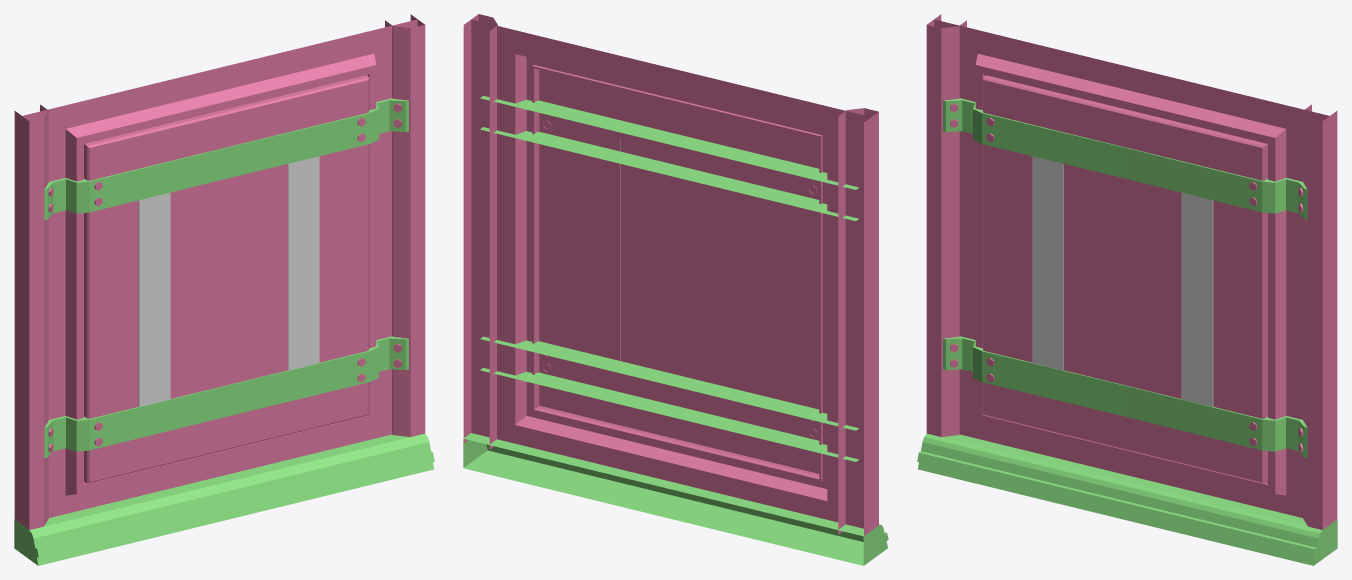
File: Floor_01_Wall_10_a.fbx
3 renders of one model, left to right at view 1: azimuth 30°, elevation 25°; view 2: azimuth 150°, elevation 25°; view 3: azimuth 330°, elevation 25°, orthographic.
Visible parts, largest first — view 1: Cube; view 2: Cube; view 3: Cube.
Boxes of the visible parts, x1,y1,x2,y2 form: Cube: [14, 14, 434, 565]; Cube: [463, 14, 888, 565]; Cube: [917, 14, 1337, 565].
Size of the model in its own units: 200 by 212 by 21.6.
